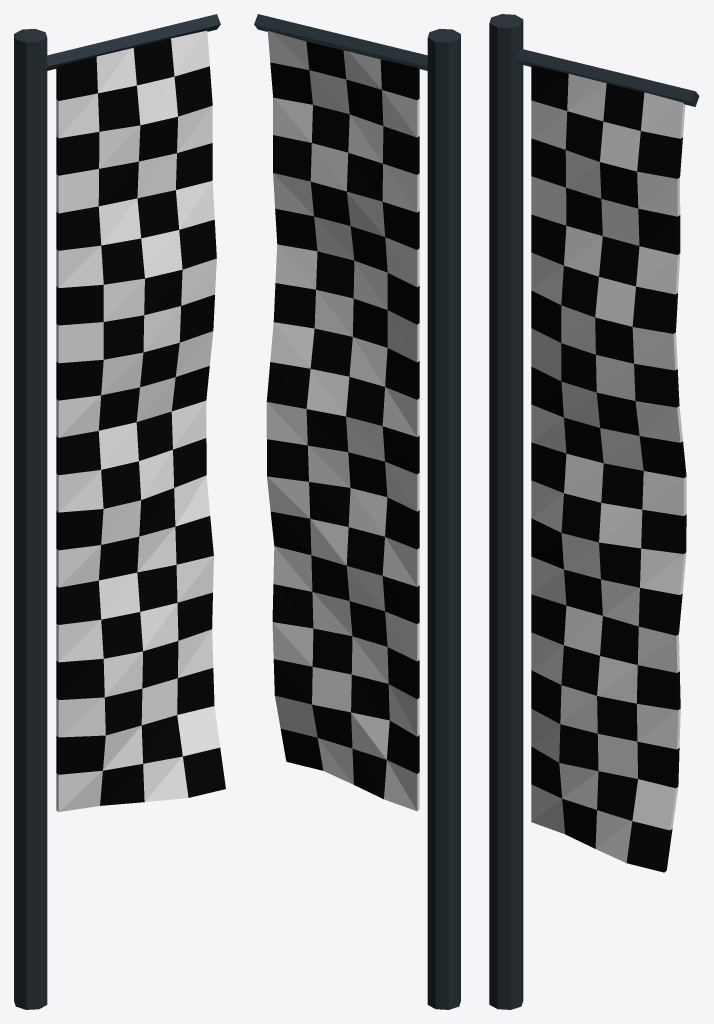
The model's file is Racing flag 0.1.fbx.
The picture shows the model from 3 angles, left to right: view 1: azimuth 30°, elevation 25°; view 2: azimuth 150°, elevation 25°; view 3: azimuth 330°, elevation 25°; orthographic projection.
Parts seen in each view (by area): view 1: racing_flag_01; view 2: racing_flag_01; view 3: racing_flag_01.
Boxes of the visible parts, box(x1,y1,x2,y2) form: racing_flag_01: box(14, 14, 225, 1009); racing_flag_01: box(254, 14, 460, 1009); racing_flag_01: box(489, 14, 699, 1009).
Size of the model in its own units: 1.35 by 6.2 by 0.3313.
